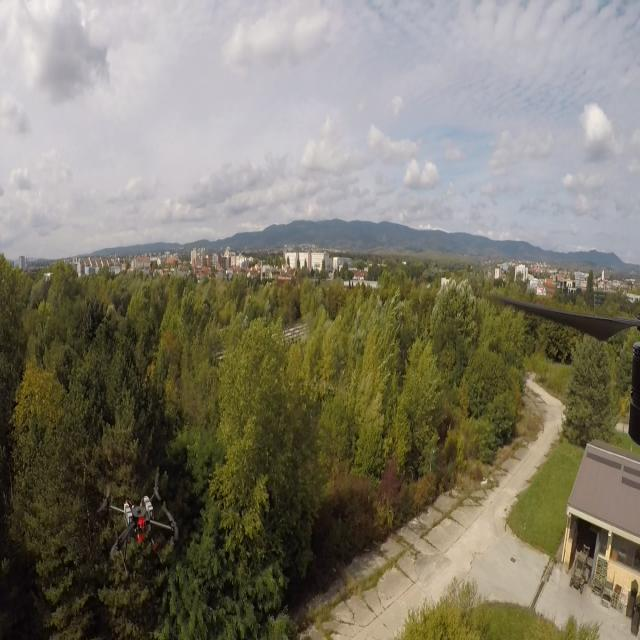UAV: (106, 460, 179, 584)
